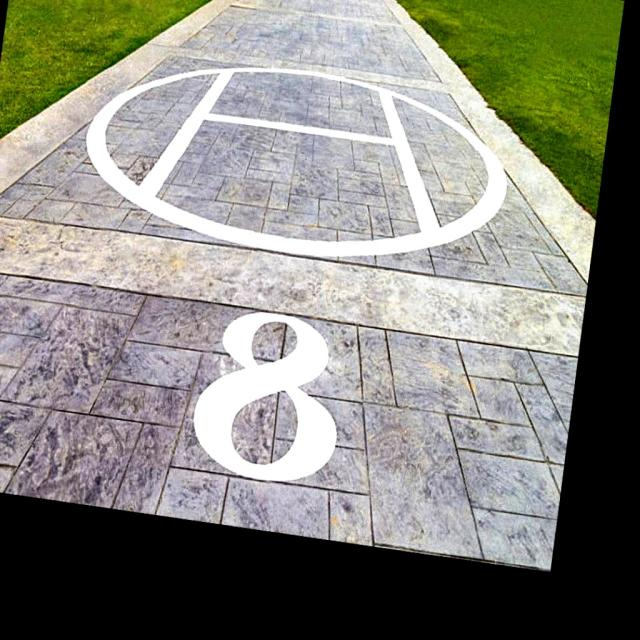helipad: (80, 62, 512, 266)
